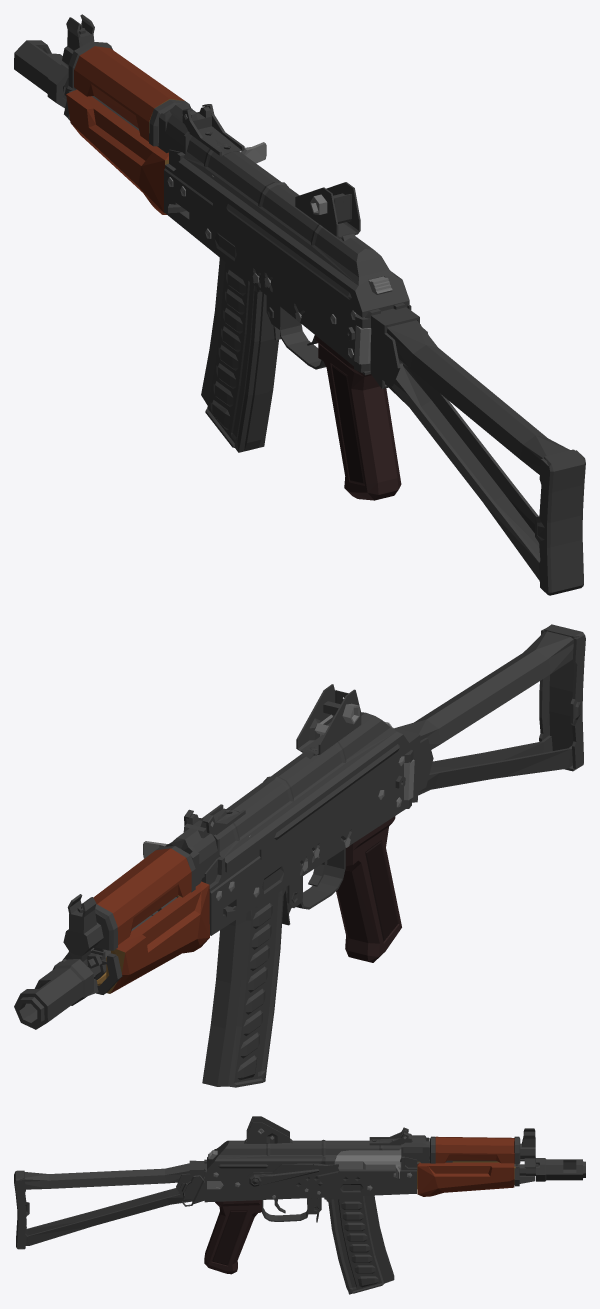
The model's file is low-poly_ots-12_-_late_variant.glb.
3 views of the same model, one above another, from view 1: azimuth 30°, elevation 25°; view 2: azimuth 150°, elevation 25°; view 3: azimuth 270°, elevation 25° (orthographic). The views are drawn at different scales.
Visible parts, largest first — view 1: folding_stock_11, dust_cover_12, receiver_16, Cube_13, grip_9, handguard_lower_8, handguard_upper_7, compensator_17, gas_tube_10; view 2: folding_stock_11, receiver_16, dust_cover_12, Cube_13, grip_9, handguard_lower_8, handguard_upper_7, compensator_17, gas_tube_10, lower_handguard_retainer_6; view 3: receiver_16, folding_stock_11, dust_cover_12, Cube_13, handguard_lower_8, grip_9, handguard_upper_7, safety_selector_1, bolt_carrier_14, compensator_17, gas_tube_10, lower_handguard_retainer_6.
Boxes of the visible parts, x1,y1,x2,y2 form: folding_stock_11: (354,307,585,595); dust_cover_12: (178,104,409,317); receiver_16: (62,14,411,375); Cube_13: (201,258,278,452); grip_9: (315,335,401,500); handguard_lower_8: (66,89,168,214); handguard_upper_7: (74,46,184,141); compensator_17: (14,40,68,108); gas_tube_10: (68,41,190,146); folding_stock_11: (393,624,585,802); receiver_16: (61,755,405,978); dust_cover_12: (184,684,410,872); Cube_13: (202,887,285,1087); grip_9: (336,816,401,962); handguard_lower_8: (96,881,209,993); handguard_upper_7: (93,848,191,944); compensator_17: (14,959,93,1029); gas_tube_10: (94,846,195,951); lower_handguard_retainer_6: (88,949,122,995); receiver_16: (204,1128,539,1221); folding_stock_11: (14,1160,204,1249); dust_cover_12: (207,1116,408,1172); Cube_13: (324,1195,394,1294); handguard_lower_8: (417,1161,515,1196); grip_9: (204,1200,261,1274); handguard_upper_7: (435,1136,514,1163); safety_selector_1: (247,1163,339,1188); bolt_carrier_14: (334,1149,401,1179); compensator_17: (536,1158,585,1181); gas_tube_10: (426,1136,520,1163); lower_handguard_retainer_6: (514,1164,535,1186).
Size of the model in its own units: 0.075 by 0.2436 by 0.734.
